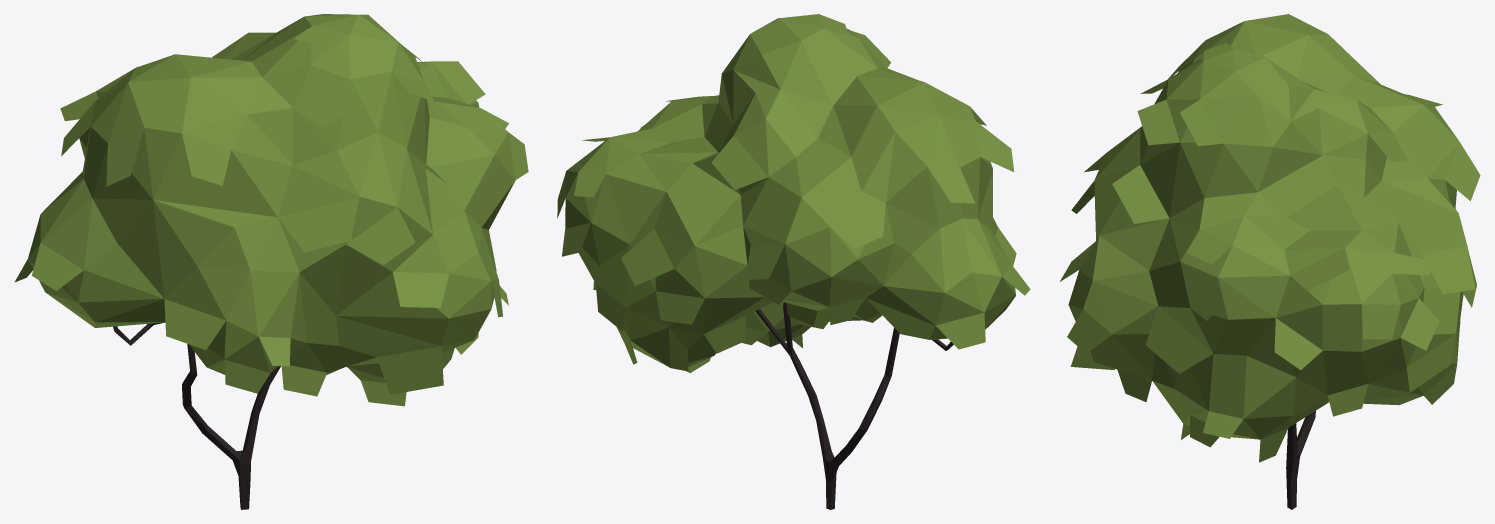
Rendered from Tree_Forest_Green_02.glb.
The picture shows the model from 3 angles, left to right: view 1: azimuth 30°, elevation 25°; view 2: azimuth 150°, elevation 25°; view 3: azimuth 270°, elevation 25°; orthographic projection. The views are drawn at different scales.
Visible parts, largest first — view 1: Tree_Forest_Green_02; view 2: Tree_Forest_Green_02; view 3: Tree_Forest_Green_02.
Boxes of the visible parts, x1,y1,x2,y2 form: Tree_Forest_Green_02: (14,14,528,509); Tree_Forest_Green_02: (557,14,1030,509); Tree_Forest_Green_02: (1060,14,1480,509).
Size of what is drawn, in the model's own units: 8.63 by 8.58 by 6.88.
Materials: 1 (1 with a texture image).
